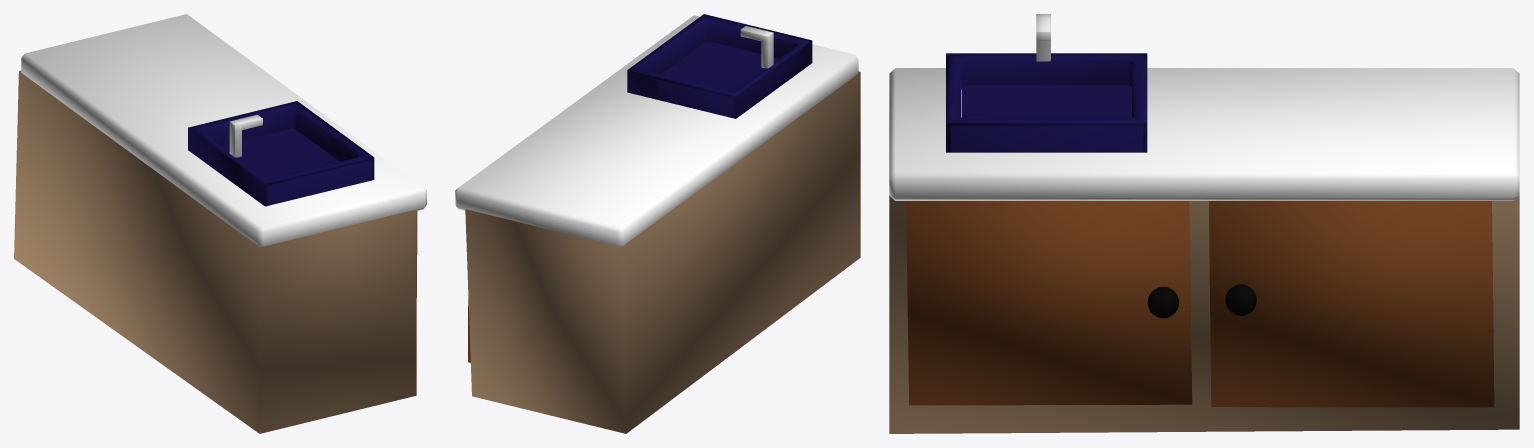
Rendered from left_sink.glb.
3 renders of one model, left to right at view 1: azimuth 30°, elevation 25°; view 2: azimuth 150°, elevation 25°; view 3: azimuth 270°, elevation 25°, orthographic. The views are drawn at different scales.
Visible parts, largest first — view 1: Plane.006; view 2: Plane.006; view 3: Plane.006.
Boxes of the visible parts, box(x1,y1,x2,y2) form: Plane.006: box(14, 14, 426, 433); Plane.006: box(455, 14, 860, 433); Plane.006: box(889, 14, 1519, 433).
Size of the model in its own units: 2.15 by 2.83 by 4.76.
